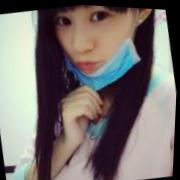WRONG: (48, 3, 143, 95)
